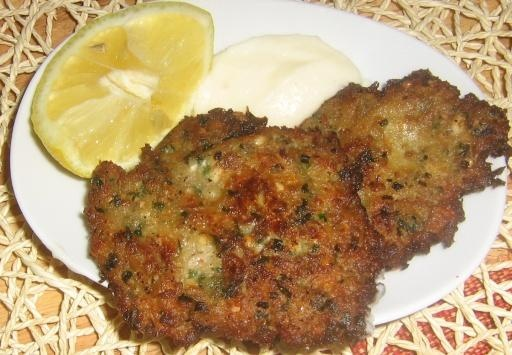background: (24, 0, 409, 195)
